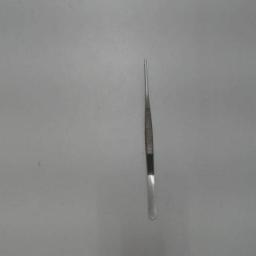Gillies Toothed Dissector: (138, 48, 158, 220)
